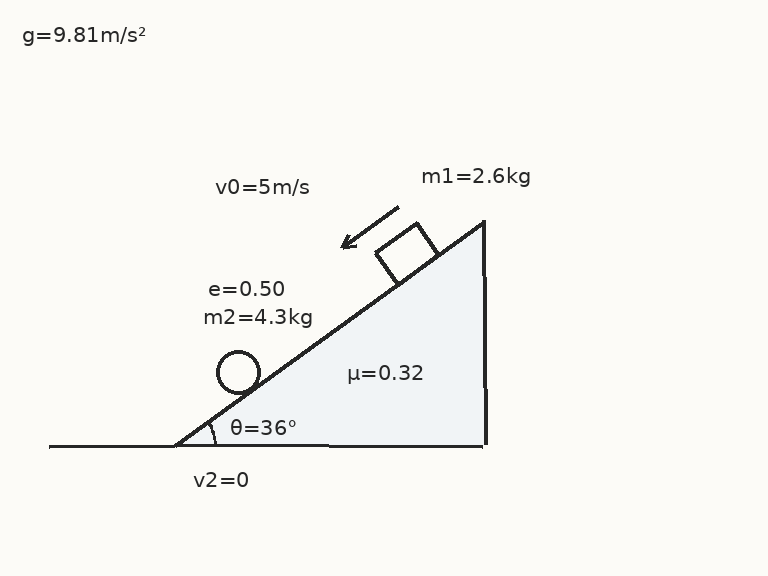ball: (214, 348, 262, 396)
block: (373, 221, 441, 286)
ramp: (173, 219, 485, 447)
